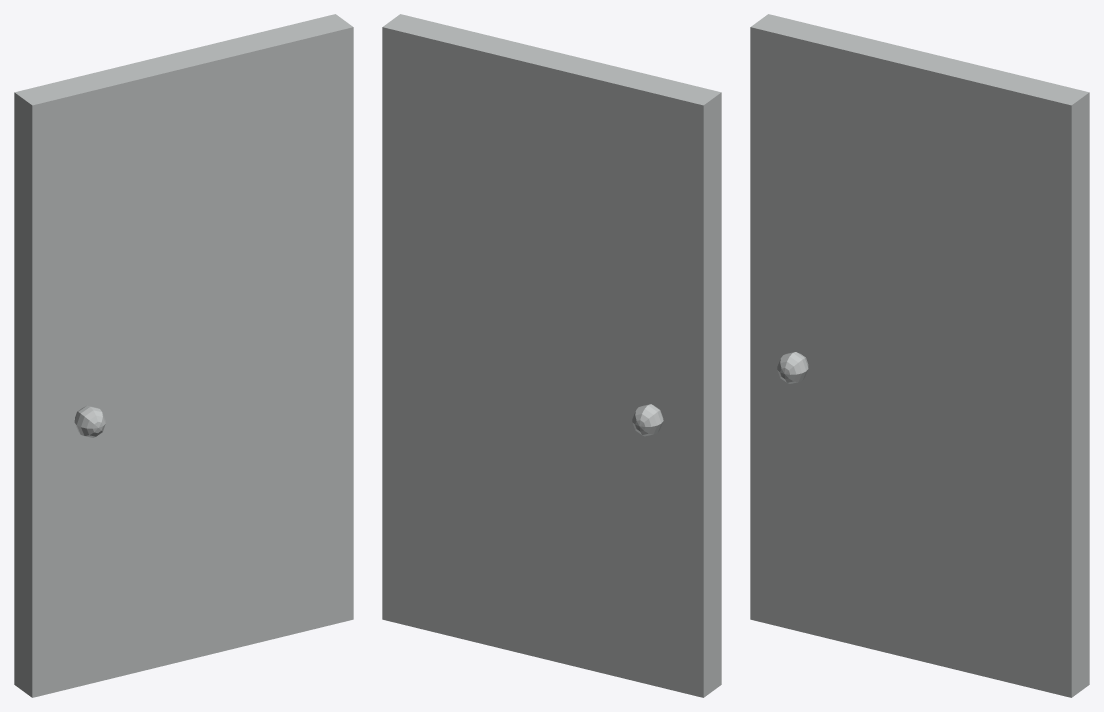
Rendered from porte01.fbx.
3 renders of one model, left to right at view 1: azimuth 30°, elevation 25°; view 2: azimuth 150°, elevation 25°; view 3: azimuth 330°, elevation 25°, orthographic.
Parts seen in each view (by area): view 1: door01_01; view 2: door01_01; view 3: door01_01.
Boxes of the visible parts, x1,y1,x2,y2 form: door01_01: (14, 14, 353, 697); door01_01: (382, 14, 721, 697); door01_01: (750, 14, 1089, 697).
Size of the model in its own units: 107 by 189 by 27.65.
Materials: 1 (1 with a texture image).
